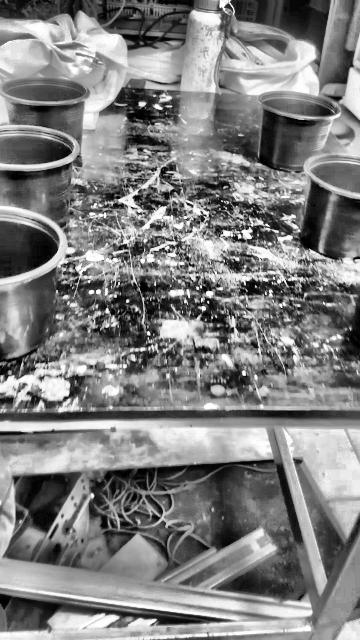pot: (1, 208, 62, 360), (0, 125, 79, 225), (258, 92, 340, 172), (0, 77, 89, 150), (301, 155, 360, 260)
